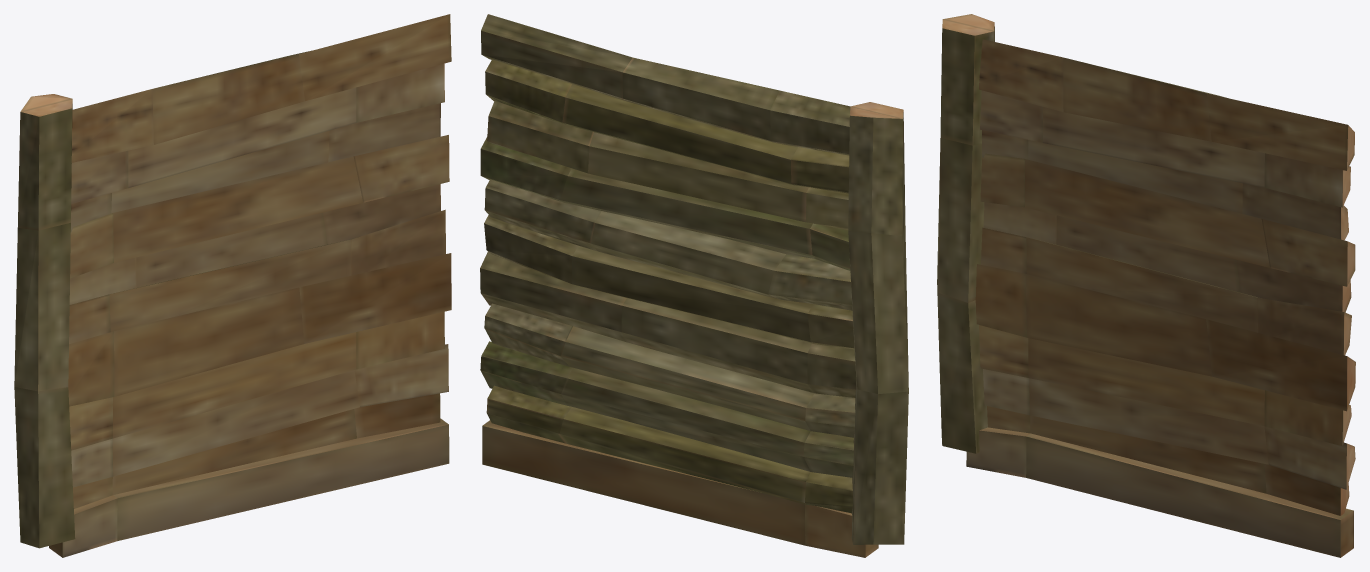
File: wall.obj
3 renders of one model, left to right at view 1: azimuth 30°, elevation 25°; view 2: azimuth 150°, elevation 25°; view 3: azimuth 330°, elevation 25°, orthographic. The views are drawn at different scales.
Parts seen in each view (by area): view 1: wall; view 2: wall; view 3: wall.
Boxes of the visible parts, x1,y1,x2,y2 form: wall: [14, 14, 451, 557]; wall: [480, 14, 908, 557]; wall: [937, 14, 1355, 557].
Size of the model in its own units: 1 by 1 by 0.1.
1 material, 1 textured.
